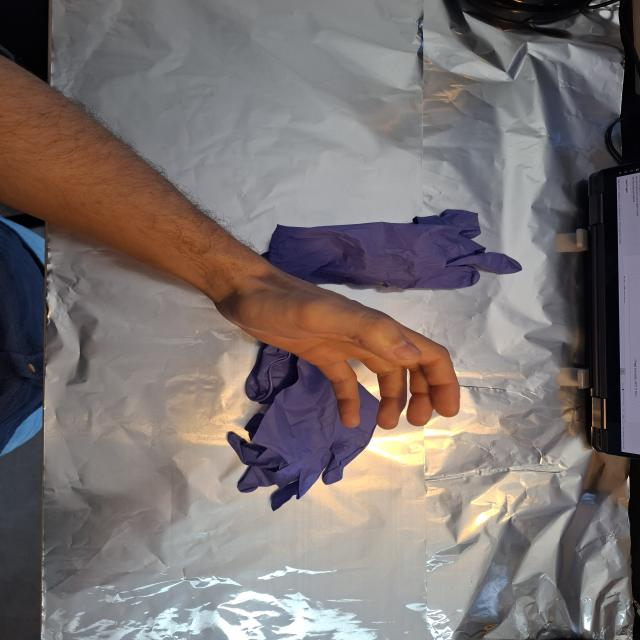glove_off: (211, 262, 463, 430)
